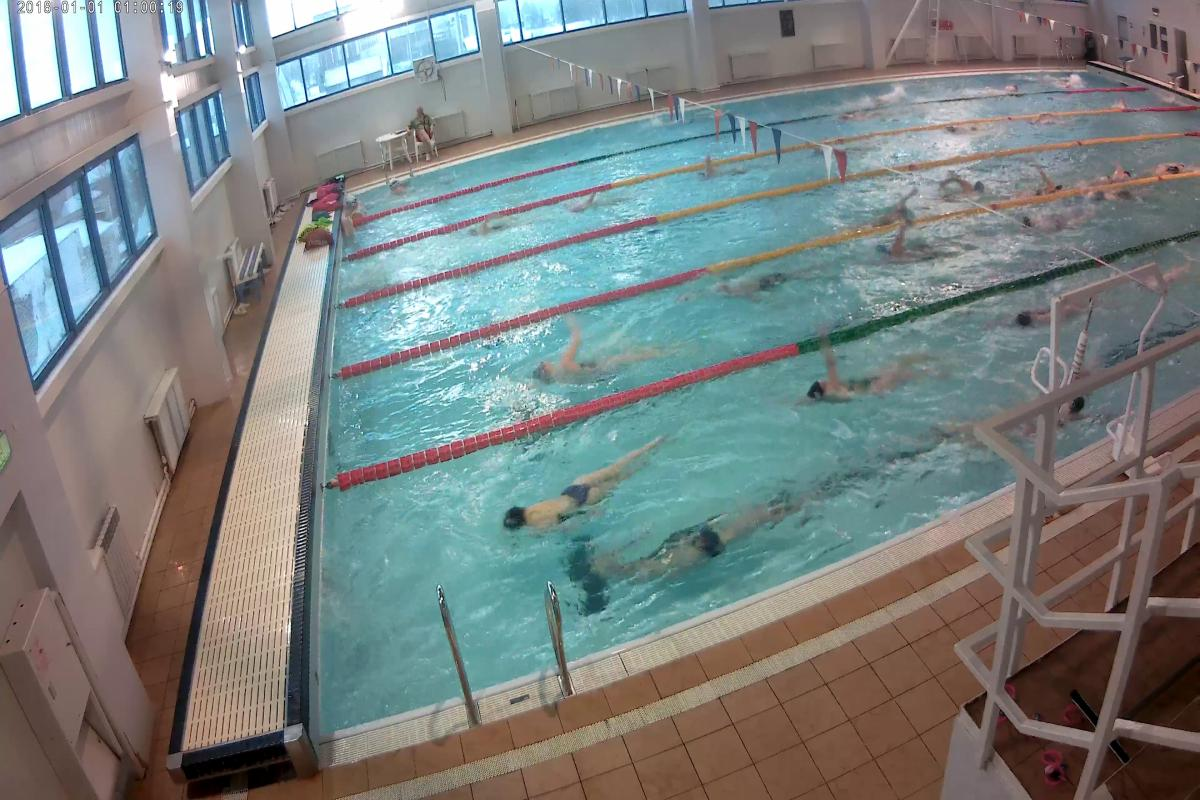swimmer: (500, 450, 663, 531), (640, 504, 785, 578), (791, 355, 922, 413), (525, 338, 611, 390), (712, 263, 826, 301), (1008, 276, 1092, 324), (871, 230, 962, 273), (1018, 199, 1094, 239), (929, 172, 991, 202)
